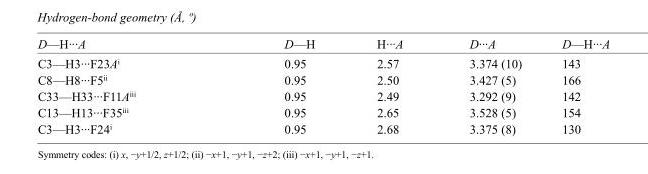table: (36, 36, 609, 135)
table column: (36, 36, 209, 135), (209, 36, 345, 135), (435, 36, 541, 135), (345, 36, 435, 135), (541, 36, 609, 135)
table row: (36, 53, 609, 71), (36, 36, 609, 53), (36, 87, 609, 104), (36, 71, 609, 87), (36, 104, 609, 120), (36, 120, 609, 135)
